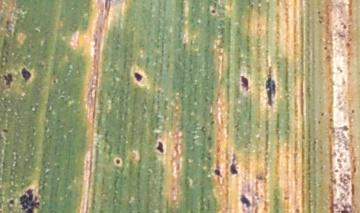tarspot: (263, 67, 277, 106), (19, 190, 39, 213), (21, 65, 32, 83), (239, 73, 251, 89), (240, 193, 252, 207), (3, 72, 14, 86), (156, 139, 166, 154), (132, 70, 143, 82), (229, 163, 239, 176), (113, 156, 122, 166), (213, 168, 223, 177), (209, 6, 216, 16), (340, 207, 351, 213), (8, 198, 16, 206), (1, 127, 10, 134), (316, 18, 323, 25), (322, 44, 328, 51), (316, 9, 322, 16), (209, 118, 215, 125), (51, 78, 57, 85), (350, 108, 356, 114), (320, 110, 325, 117), (295, 207, 299, 213)
